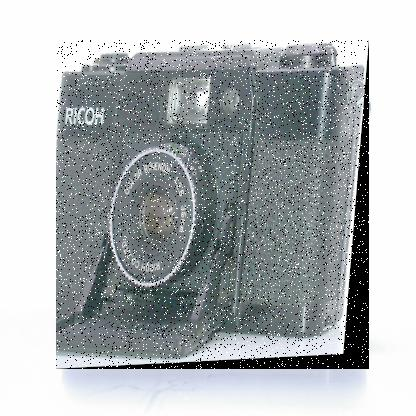Camera: (57, 42, 371, 372)
